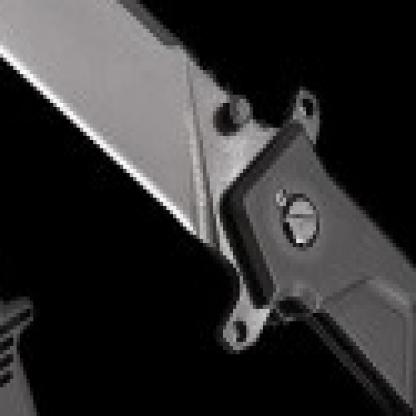knife: (0, 0, 207, 186)
